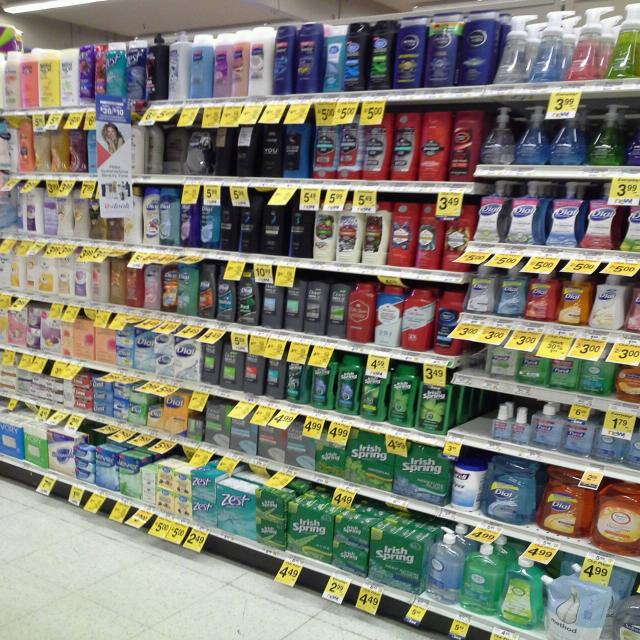empty: (451, 389, 505, 435)
